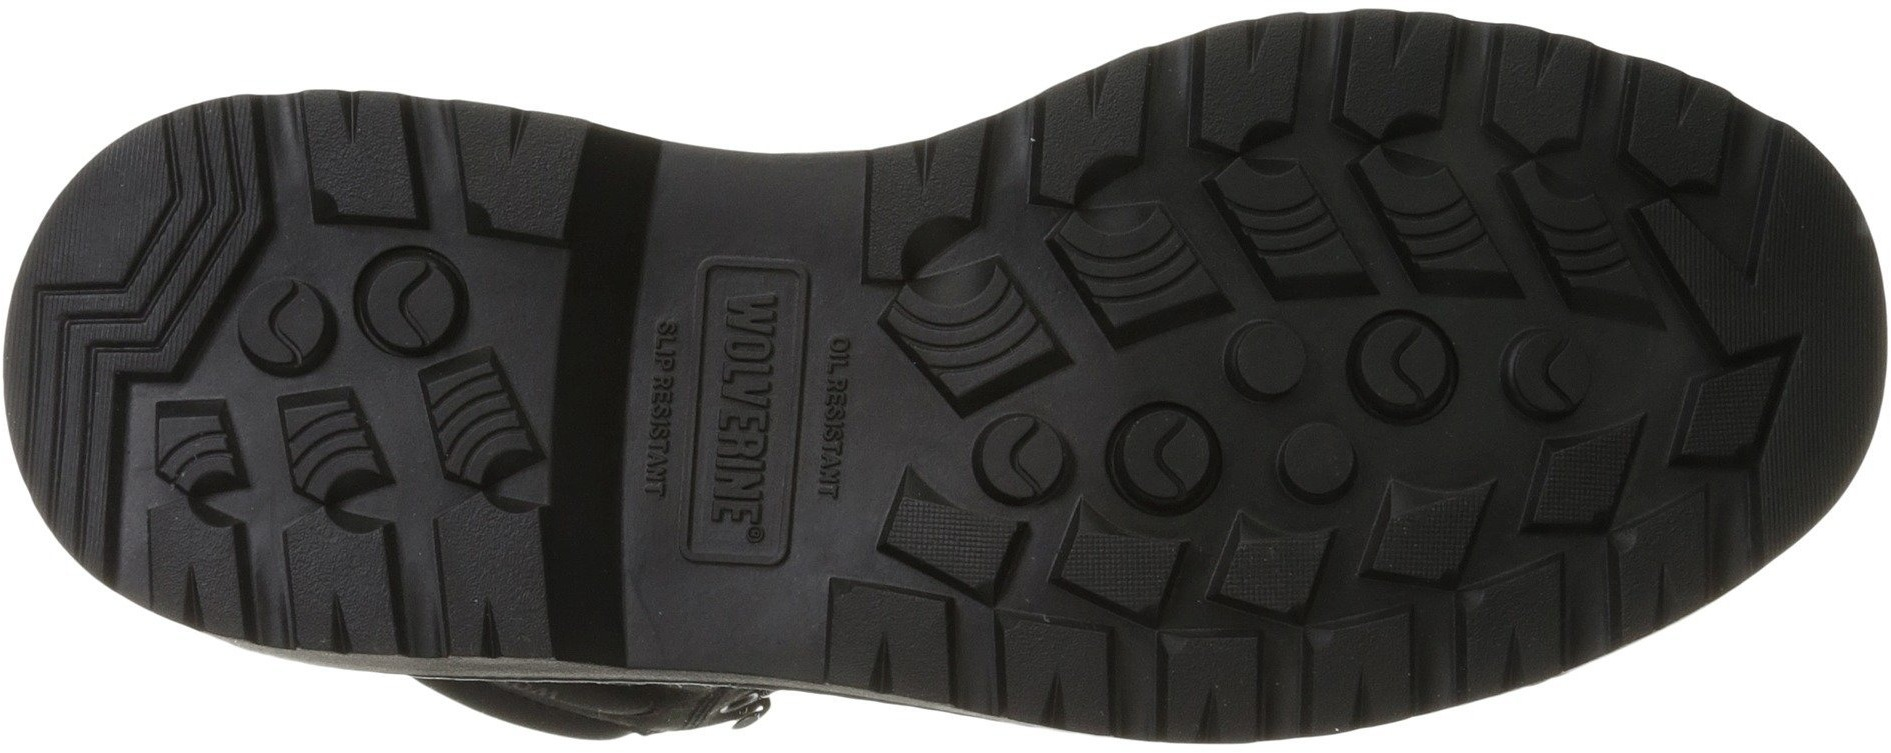chevron: (24, 264, 172, 395)
circle: (1205, 298, 1327, 426), (1275, 442, 1374, 514)
text: (704, 284, 792, 372), (699, 375, 784, 459), (699, 468, 781, 547), (813, 414, 892, 485), (631, 389, 692, 462), (822, 313, 880, 386), (628, 317, 696, 378)
